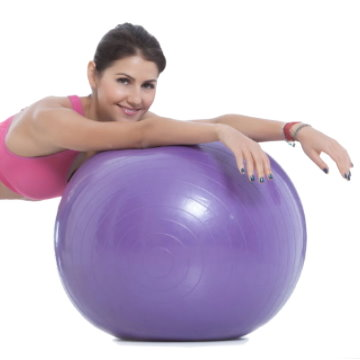yogaball: (48, 138, 310, 348)
